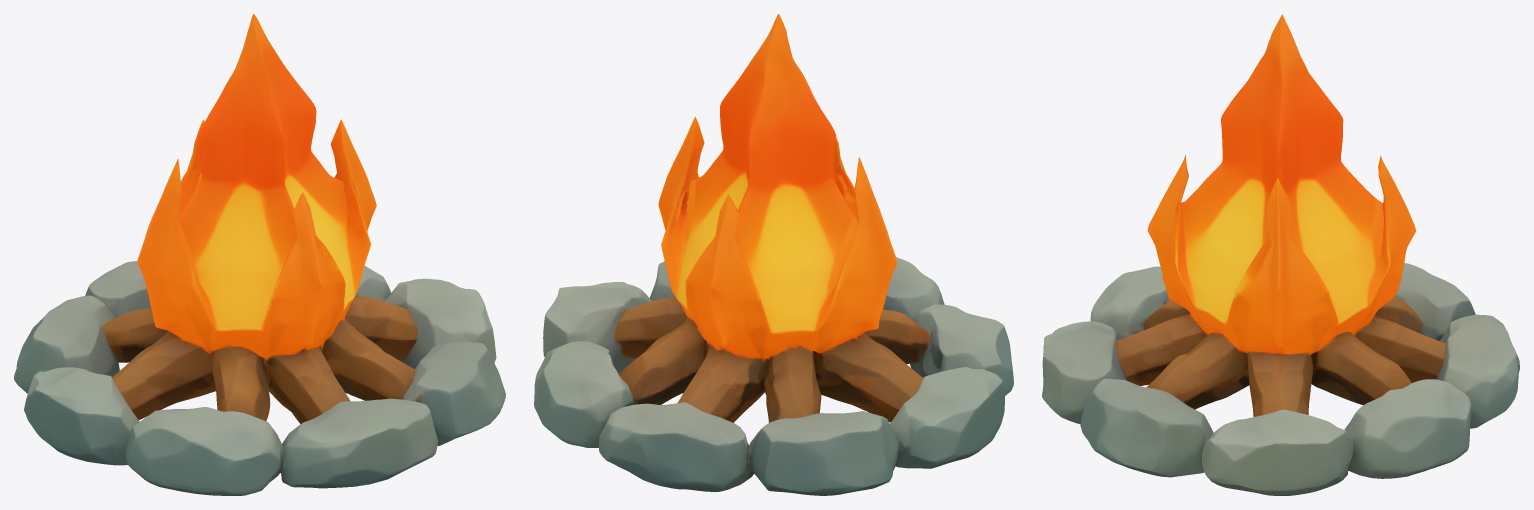
File: base_basic_shaded.fbx
The picture shows the model from 3 angles, left to right: view 1: azimuth 30°, elevation 25°; view 2: azimuth 150°, elevation 25°; view 3: azimuth 270°, elevation 25°; orthographic projection. The views are drawn at different scales.
Visible parts, largest first — view 1: geometry_0; view 2: geometry_0; view 3: geometry_0.
Boxes of the visible parts, x1,y1,x2,y2 form: geometry_0: (14, 14, 505, 495); geometry_0: (534, 14, 1013, 495); geometry_0: (1042, 14, 1519, 495).
Size of the model in its own units: 190 by 164 by 186.
